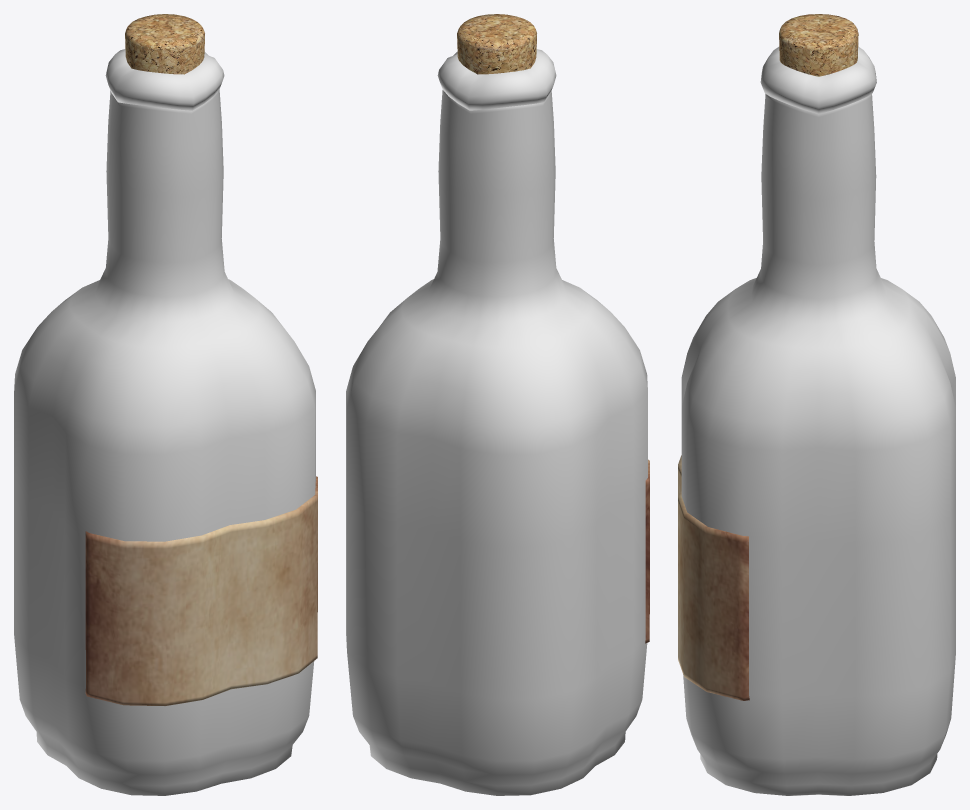
File: Bottle3.fbx
The picture shows the model from 3 angles, left to right: view 1: azimuth 30°, elevation 25°; view 2: azimuth 150°, elevation 25°; view 3: azimuth 270°, elevation 25°; orthographic projection.
Visible parts, largest first — view 1: Bottle_LOD0, Cork; view 2: Bottle_LOD0, Cork; view 3: Bottle_LOD0, Cork.
Boxes of the visible parts, <box> form: Bottle_LOD0: <box>14,49,317,795</box>; Cork: <box>125,14,204,74</box>; Bottle_LOD0: <box>346,49,649,795</box>; Cork: <box>457,14,536,74</box>; Bottle_LOD0: <box>678,46,955,795</box>; Cork: <box>779,14,858,76</box>.
Size of what is drawn, in the model's own units: 32.5 by 94.26 by 32.92.
